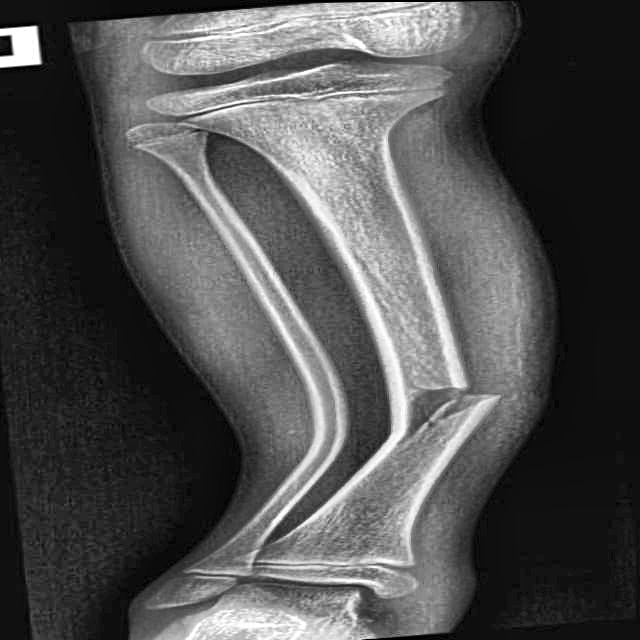Oblique Displaced: (356, 359, 550, 464)
